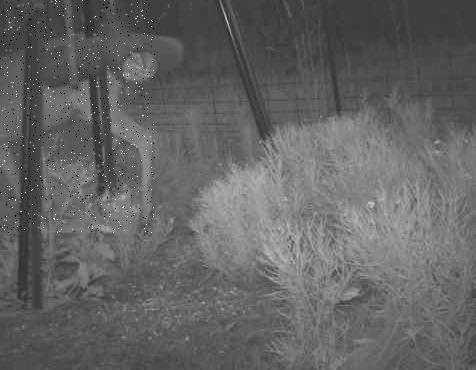Deer: (0, 0, 155, 233)
